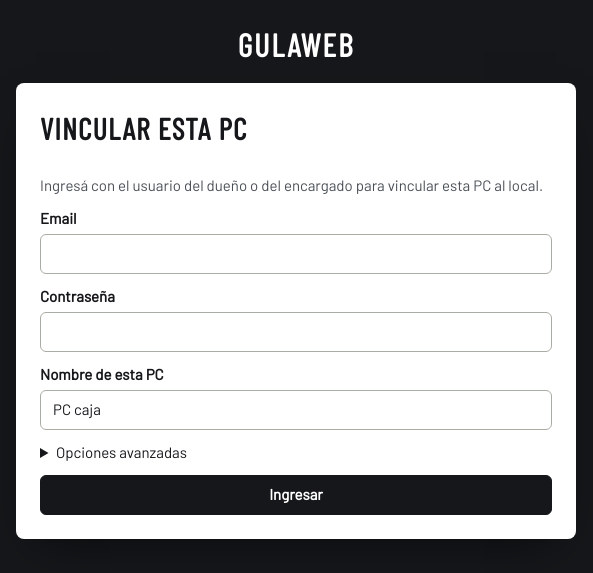
Test: muestra el error de la API
The width and height of the screenshot is (593, 573).
Type "a@a.com" into the field labelled "Email" at (296, 254), box [40,234,552,274]
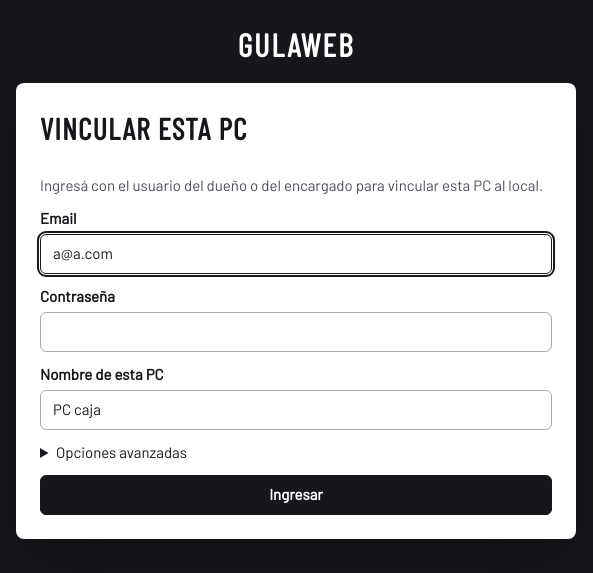
Type "malmal123" into the password field labelled "Contraseña" at (296, 332), box [40,312,552,352]
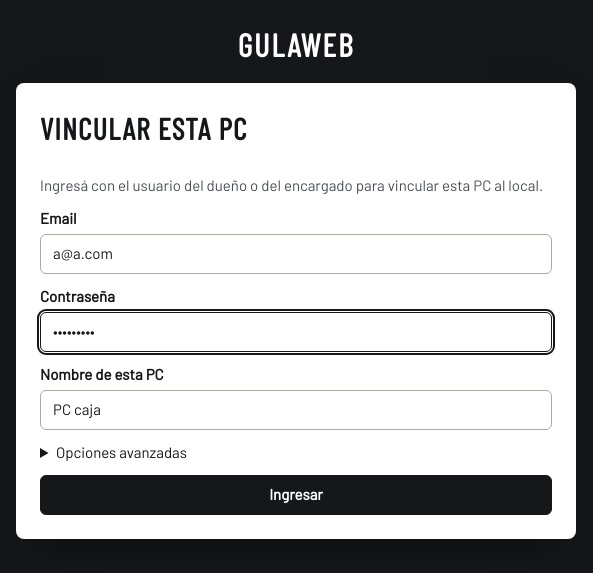
Click the button "Ingresar" at (296, 495), box [40,475,552,515]
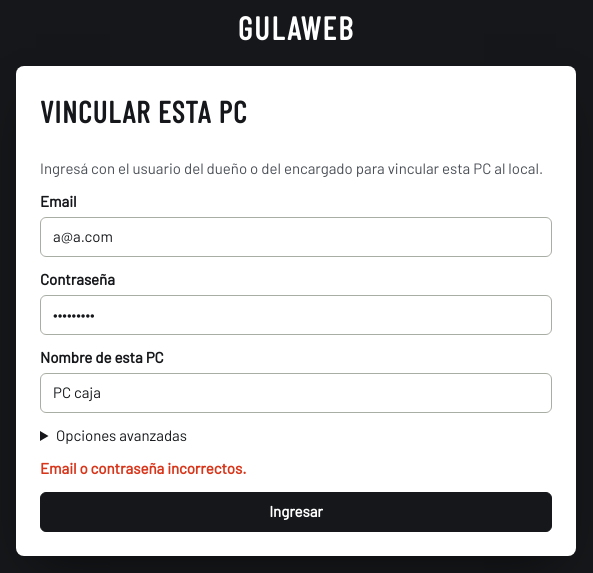
expect the message reads "Email o contraseña incorrectos.": met, box [40,459,246,477]
